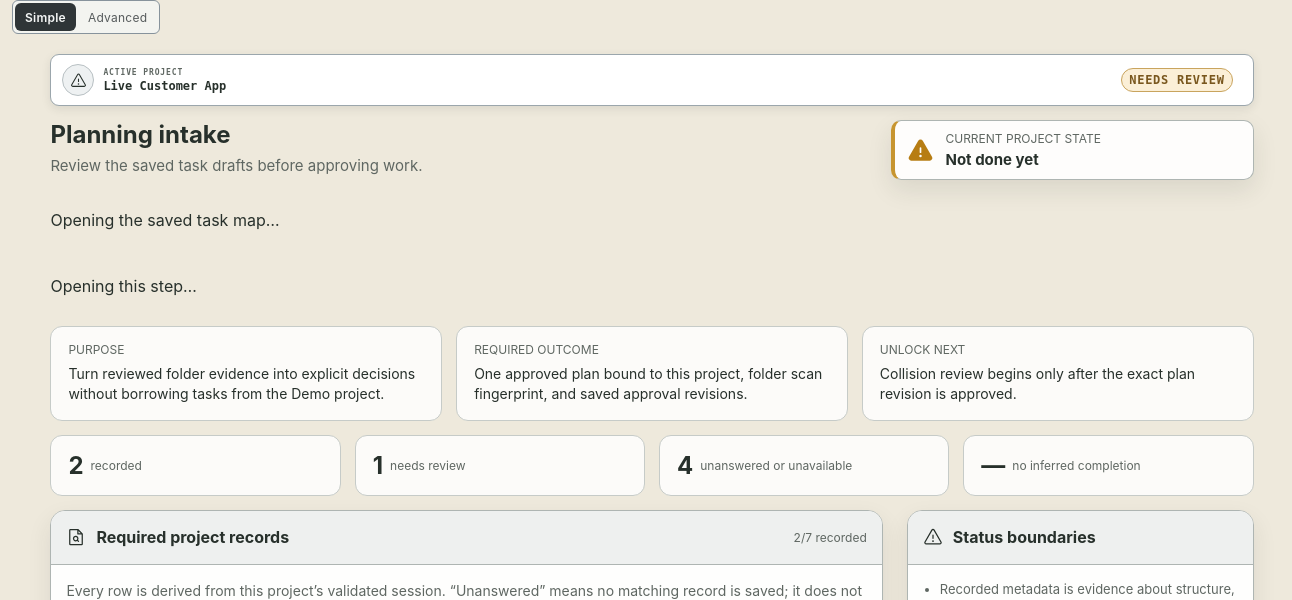
Simple/Advanced view toggle › technical detail is marked advanced-only while blockers and next actions stay visible
Click the button "Advanced": (118, 17) [78,3,157,31]
(page scrolled)
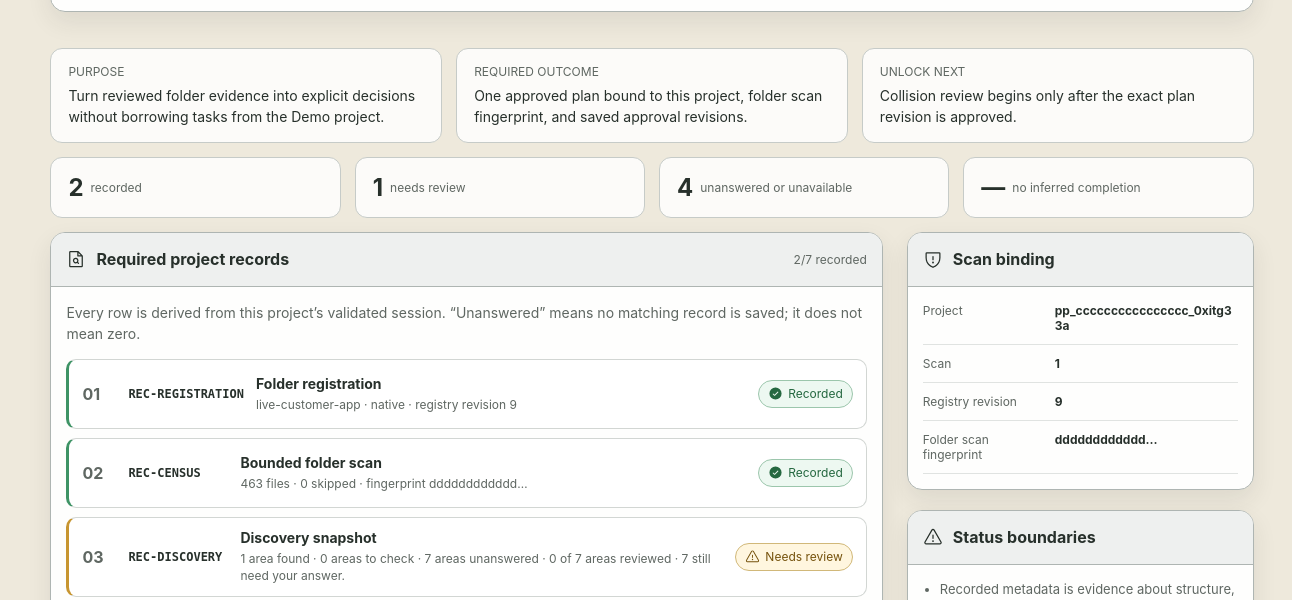
Expected: the element with class "imported-workflow-binding" shows "Registry revision", [923,394,1017,409]
